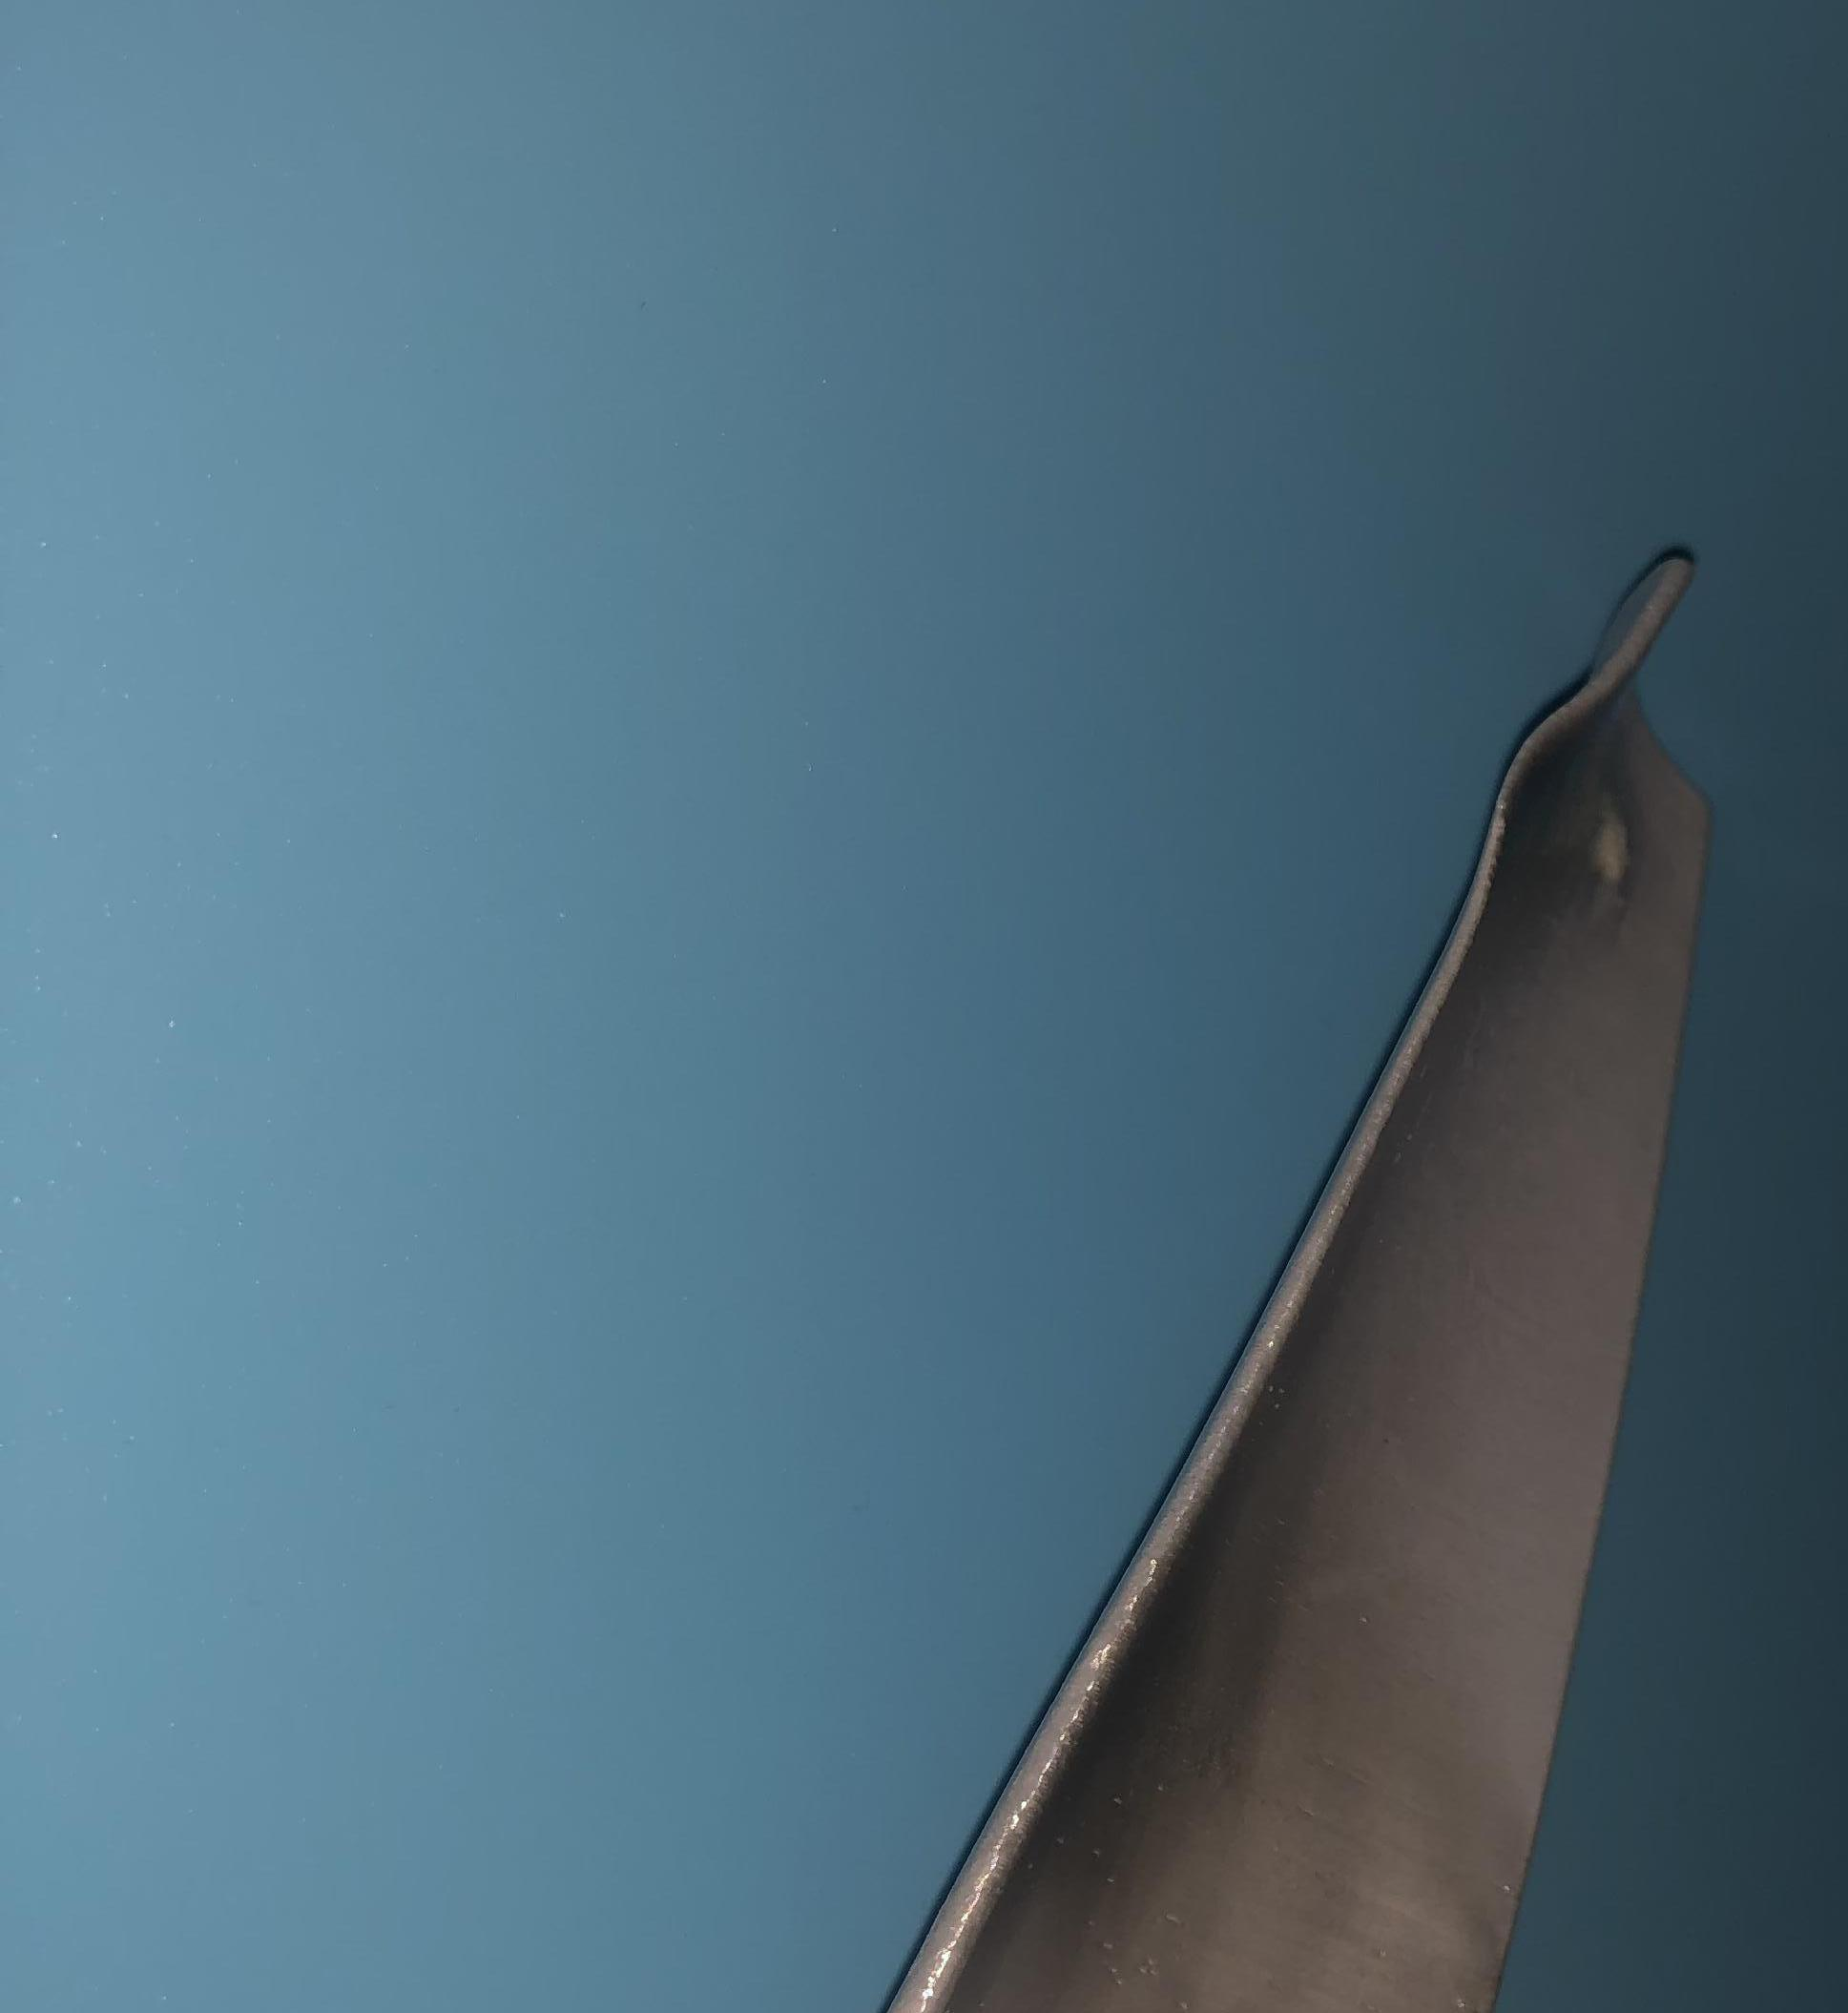ablation: (1089, 1582, 1282, 1869), (1487, 742, 1627, 940)
